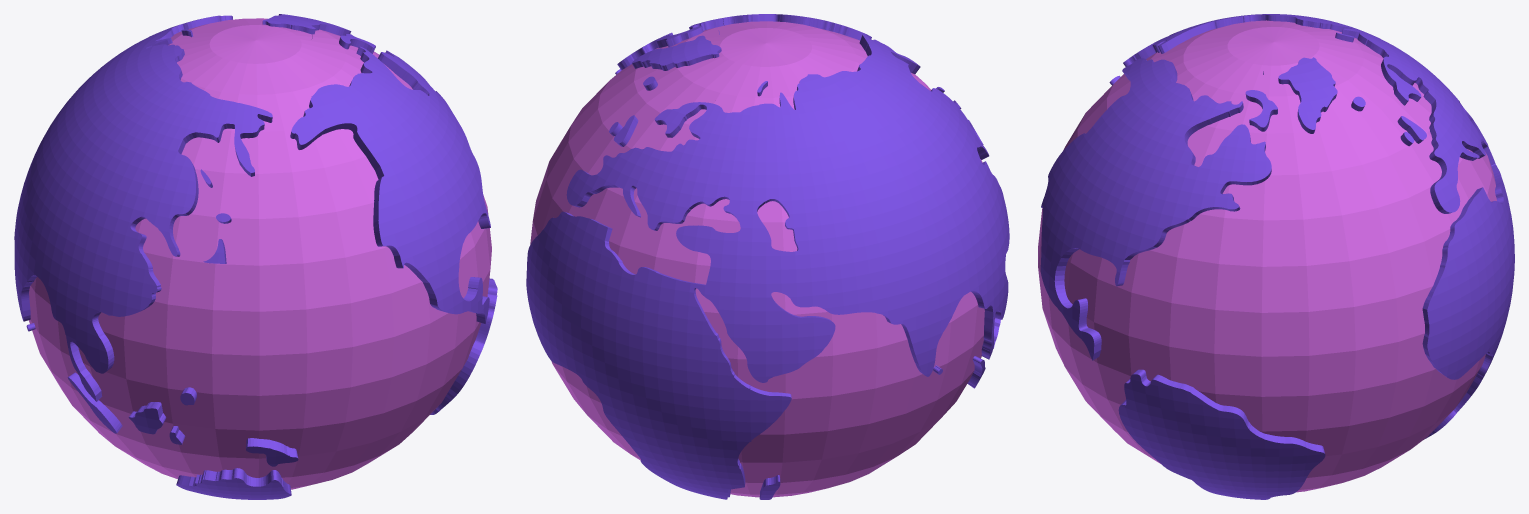
Rendered from globe.fbx.
The picture shows the model from 3 angles, left to right: view 1: azimuth 30°, elevation 25°; view 2: azimuth 150°, elevation 25°; view 3: azimuth 270°, elevation 25°; orthographic projection.
Visible parts, largest first — view 1: Plane, Plane.001; view 2: Plane.001, Plane; view 3: Plane, Plane.001.
Boxes of the visible parts, x1=… form: Plane: x1=29, y1=18, x2=491, y2=489; Plane.001: x1=14, y1=14, x2=497, y2=499; Plane.001: x1=526, y1=14, x2=1009, y2=499; Plane: x1=530, y1=21, x2=995, y2=497; Plane: x1=1038, y1=20, x2=1496, y2=492; Plane.001: x1=1040, y1=14, x2=1514, y2=499.
Bounding box in the file's own units: 172 × 170 × 171.
